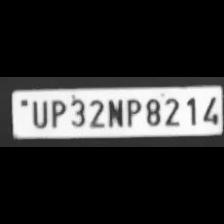1: (182, 95, 198, 127)
2: (162, 96, 182, 127), (87, 96, 105, 128)
3: (67, 96, 85, 128)
4: (198, 94, 220, 126)
8: (141, 96, 161, 127)
N: (105, 96, 123, 128)
P: (47, 98, 67, 128), (124, 96, 140, 127)
U: (28, 98, 48, 128)
